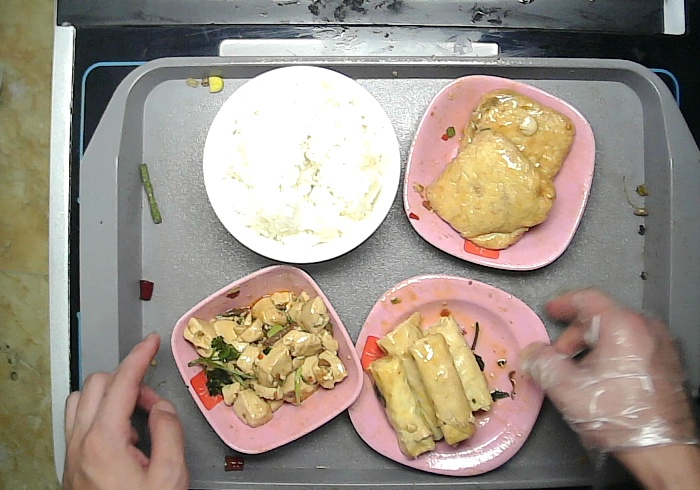SHKJ-Fan_Wan: (200, 60, 404, 266)
SHKJ-Fen_Se_Cai_Die: (401, 72, 598, 276)
SHKJ-Fen_Se_Si_Fang_Cai_Die: (343, 271, 554, 482)
SHKJ-Fen_Se_Xiao_Fang_Die: (168, 262, 367, 455)
